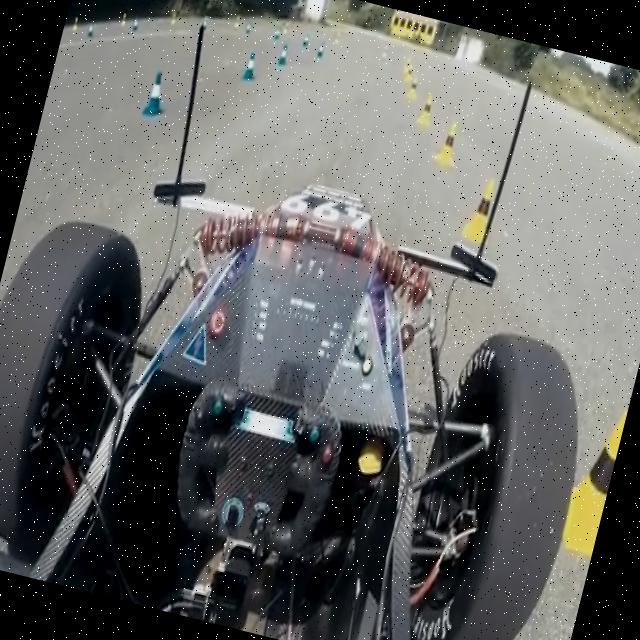blue_cone: (142, 70, 172, 120), (241, 49, 260, 82)
yellow_cone: (545, 395, 628, 556), (459, 175, 503, 248), (431, 118, 464, 168), (414, 90, 436, 127)
